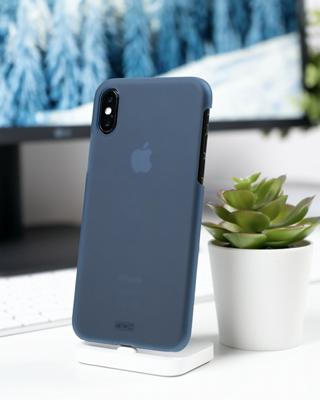cell-phone: (65, 70, 216, 359)
